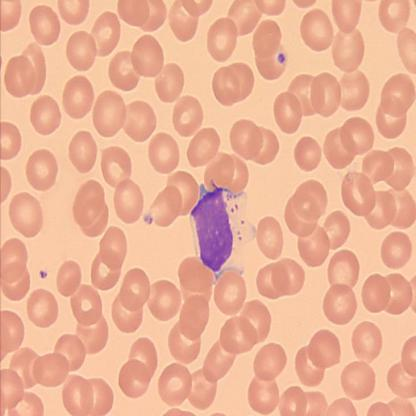Atypical lymphocyte: (191, 179, 255, 279)
